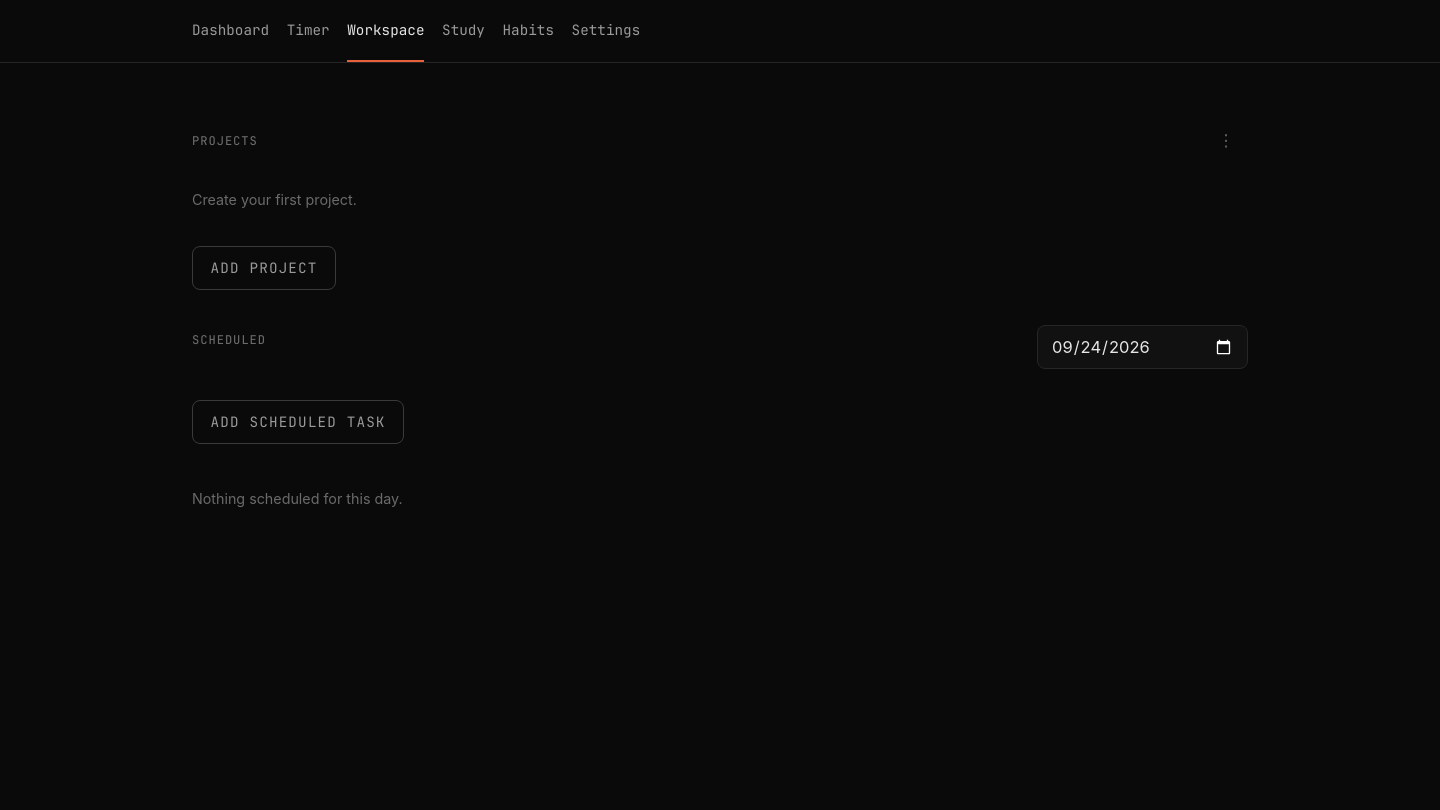
Test: creating a project › posts the name, description, and picked color and shows the new project
Click the button "Add project" at (264, 268), box [192,246,336,290]
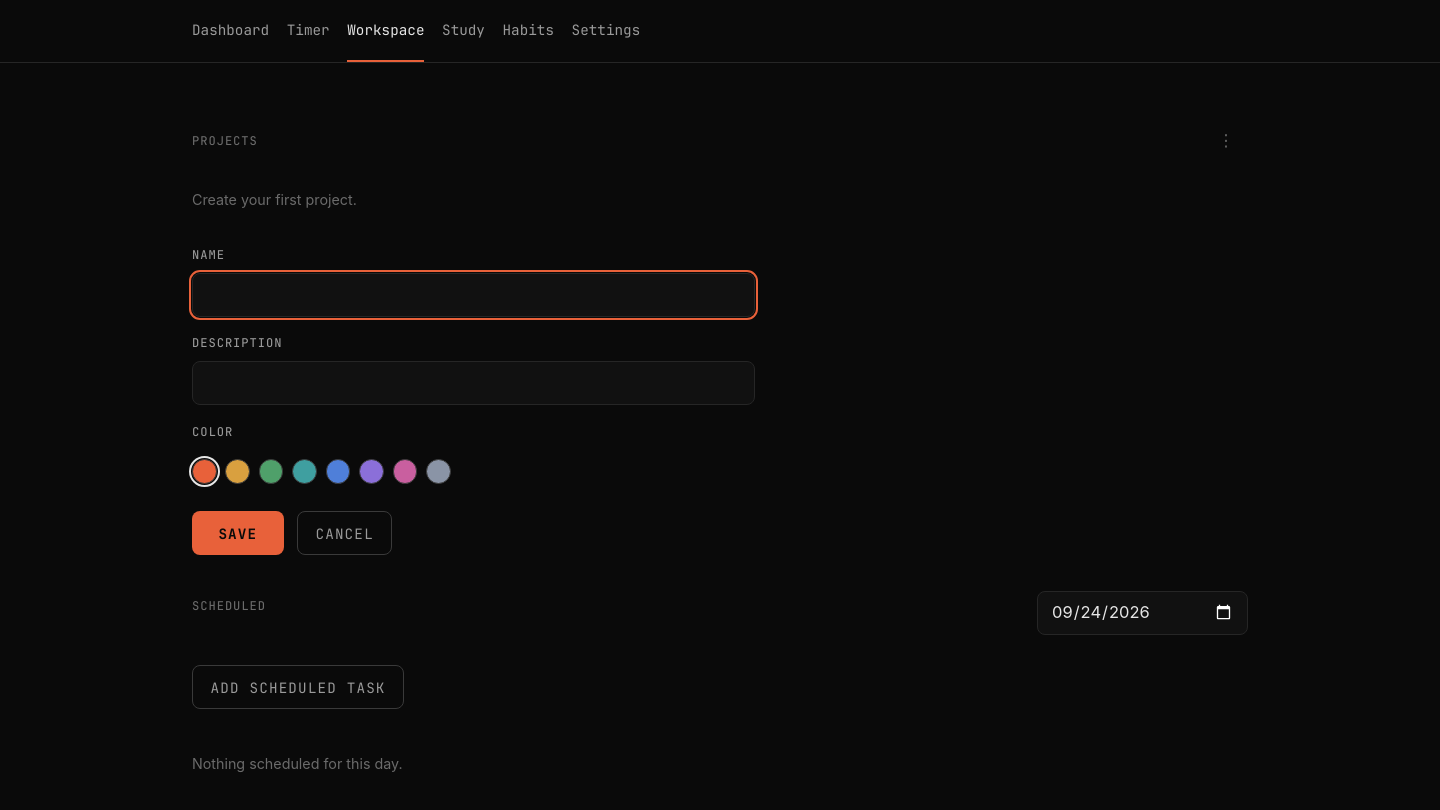
Type "Writing" into the field labelled "Name" at (474, 295), box [192,273,755,317]
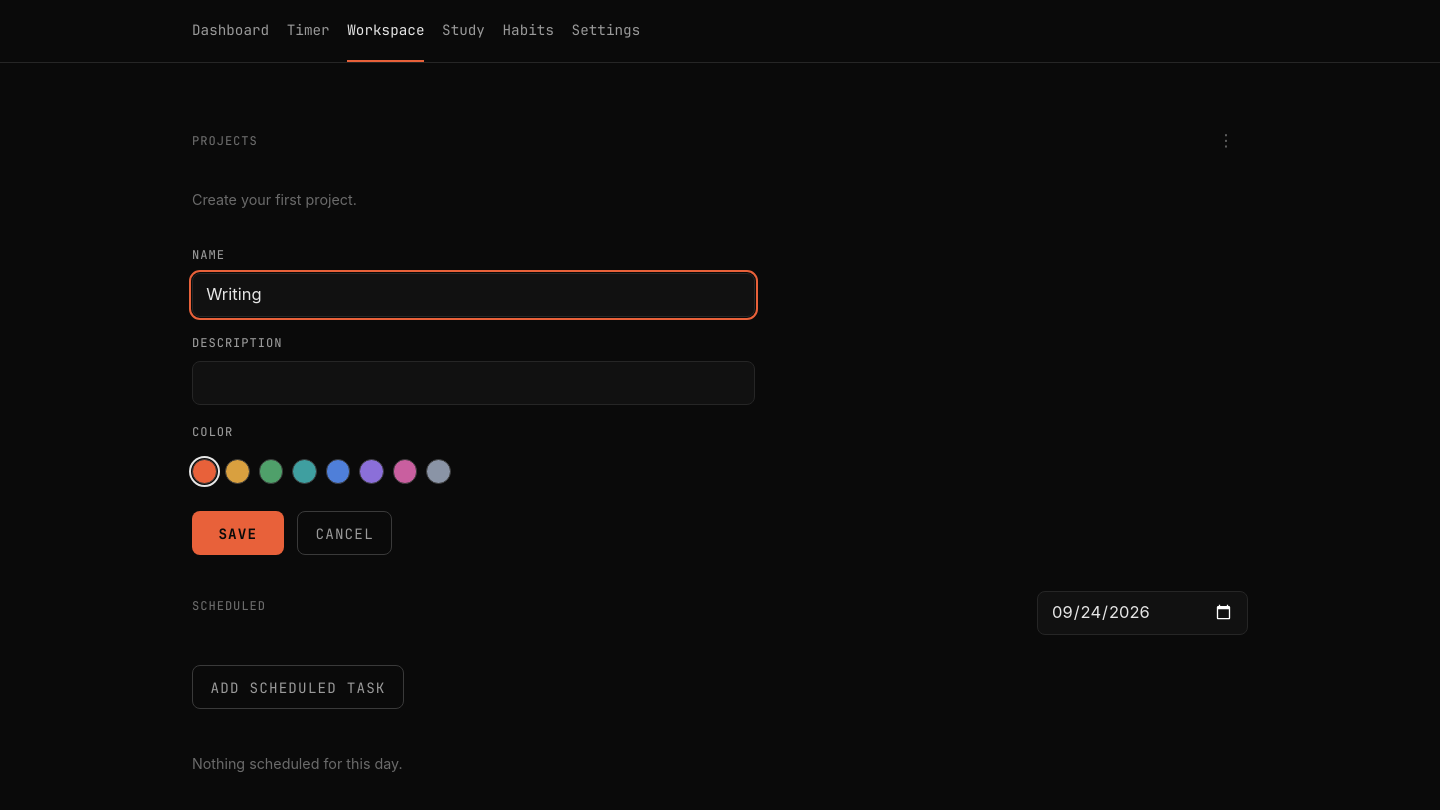
Type "Blog posts" into the field labelled "Description" at (474, 383), box [192,361,755,405]
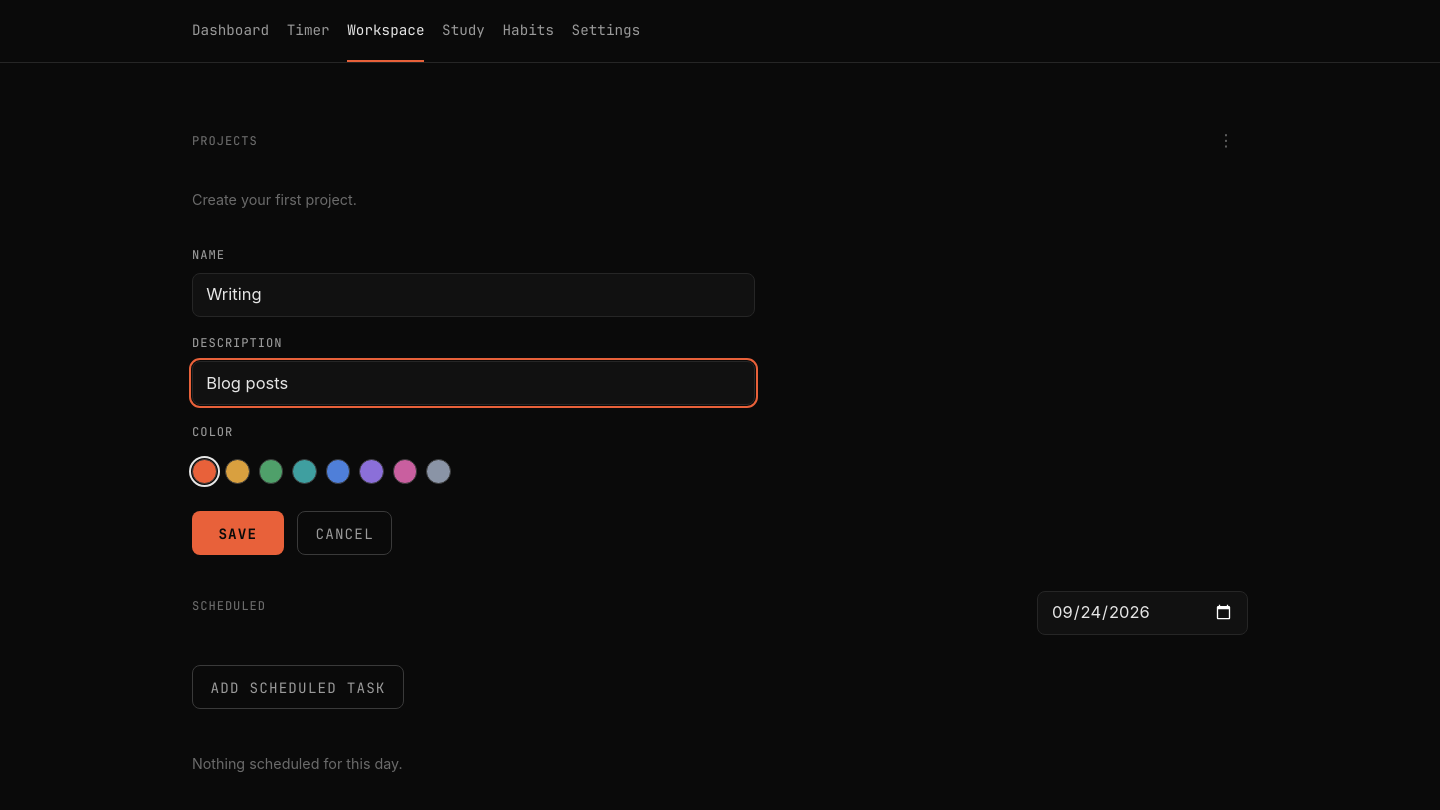
Click the radio button named "green" at (271, 472), box [259,460,283,484]
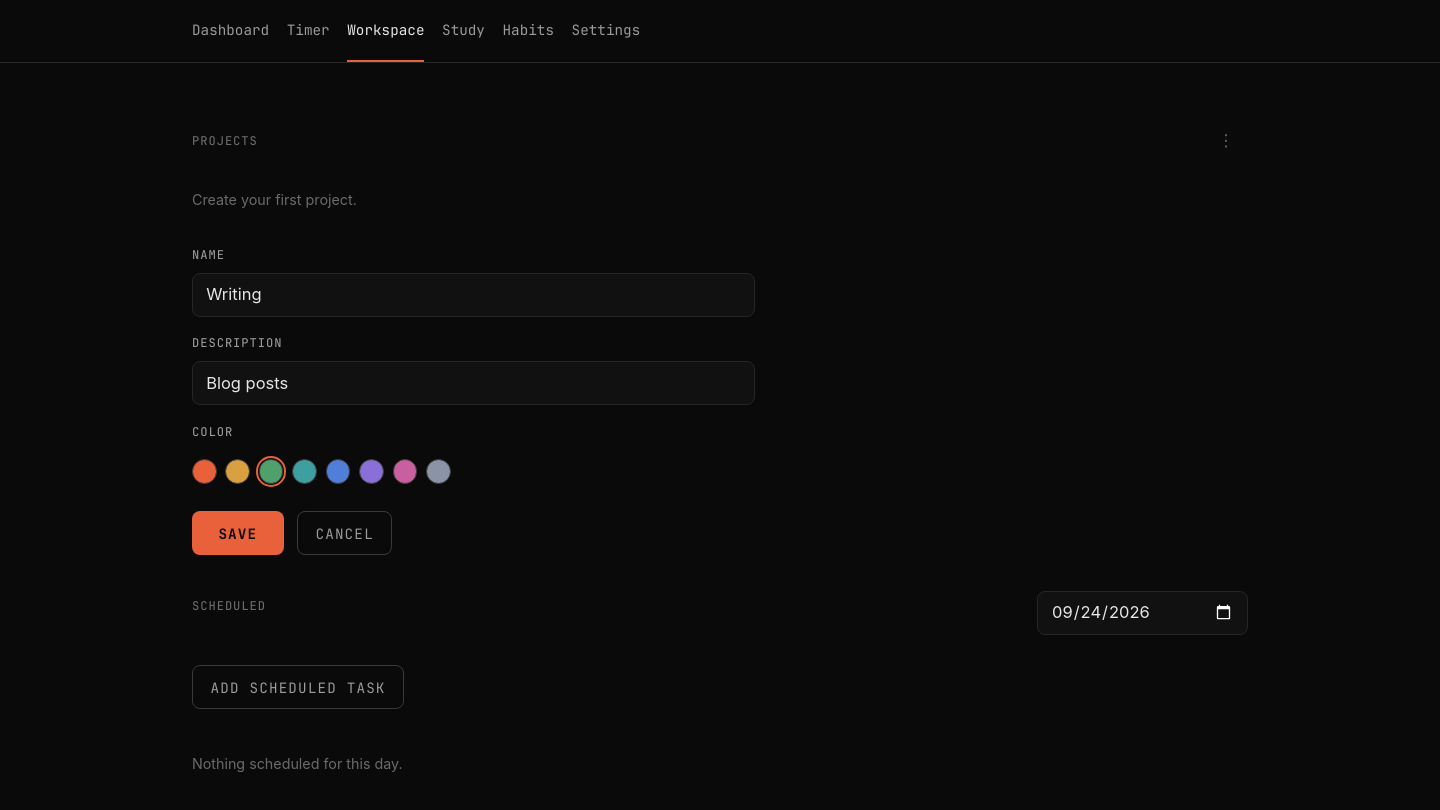
Click the button "Save" at (238, 533), box [192,511,284,555]
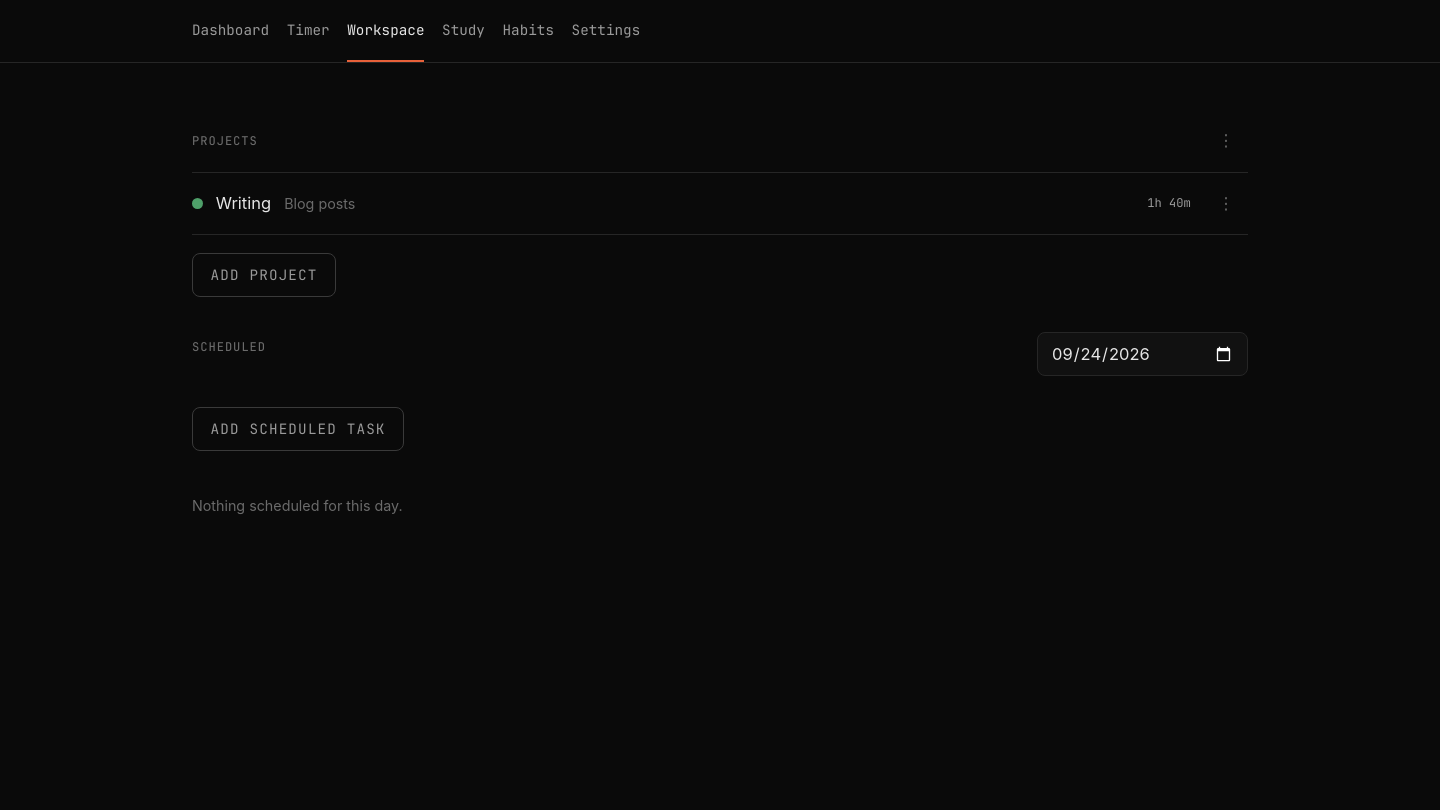
Expected: the text "Writing" is shown, [216,191,271,216]
